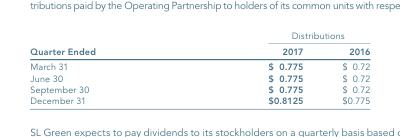table: (29, 29, 369, 106)
table column: (29, 29, 181, 106), (181, 29, 322, 106), (322, 29, 369, 106)
table column header: (29, 29, 369, 58)
table row: (29, 42, 369, 58), (29, 58, 369, 72), (29, 29, 369, 42), (29, 94, 369, 106), (29, 72, 369, 83), (29, 83, 369, 94)
table spanning cell: (29, 29, 181, 58), (181, 29, 369, 42)
